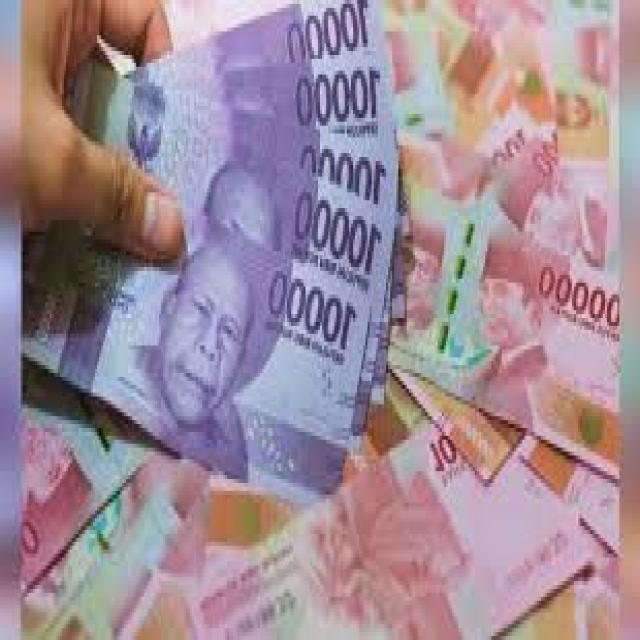sepuluh ribu rupiah: (67, 59, 398, 434), (20, 194, 369, 501), (146, 93, 398, 223), (140, 53, 396, 145), (124, 0, 382, 88)
seratus ribu rupiah: (180, 420, 595, 640), (391, 185, 622, 480)
